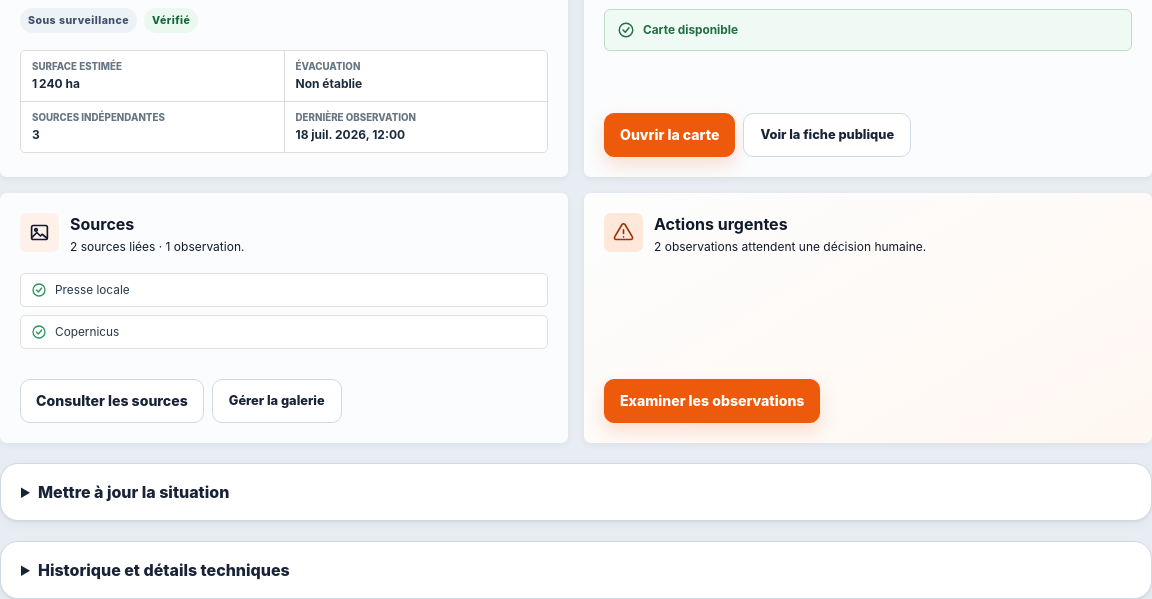
it: fiche incident principale › enregistre un statut autorisé puis affiche la valeur relue depuis l’API
(page scrolled)
Check: the text "Sous surveillance" is shown, box [20,8,137,33]
Click the heading "Mettre à jour la situation": x=134, y=492 [38,482,229,502]
(page scrolled)
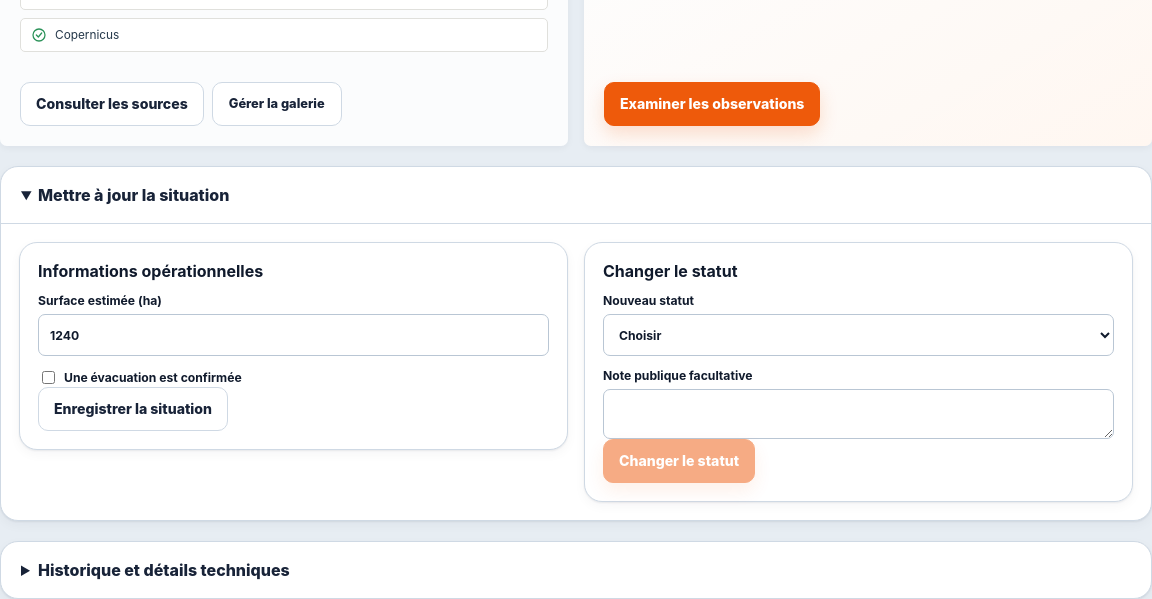
Select "Actif confirmé" in the dropdown labelled "Nouveau statut": x=858, y=335 [603,314,1114,356]
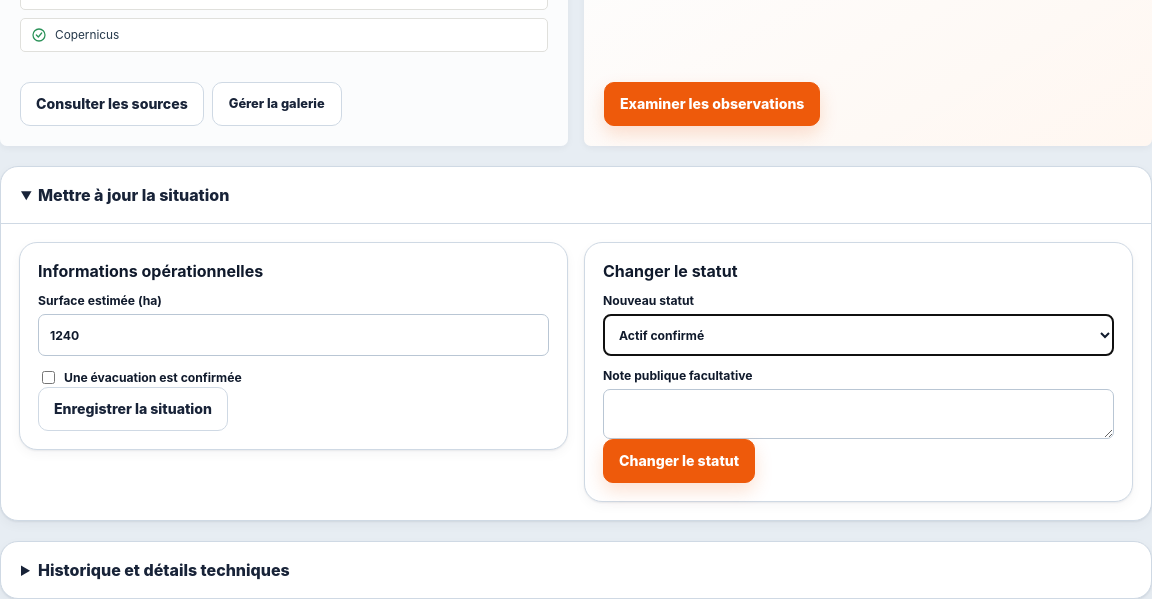
Click the button "Changer le statut": x=679, y=461 [603,439,755,483]
(page scrolled)
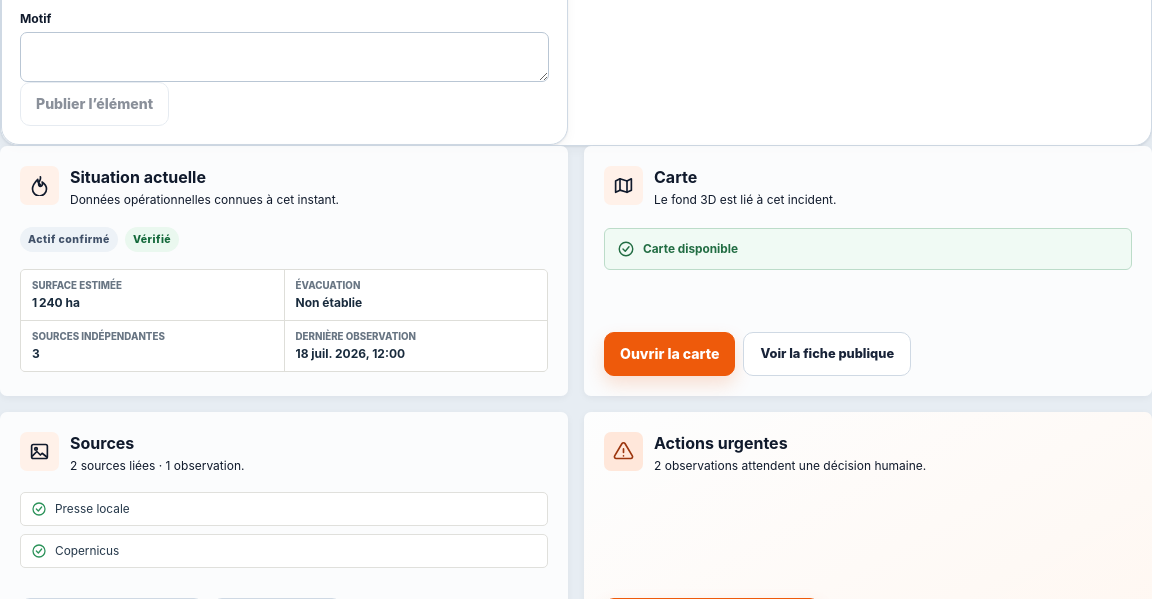
Check: the text "Actif confirmé" is shown, box [20,227,118,252]
